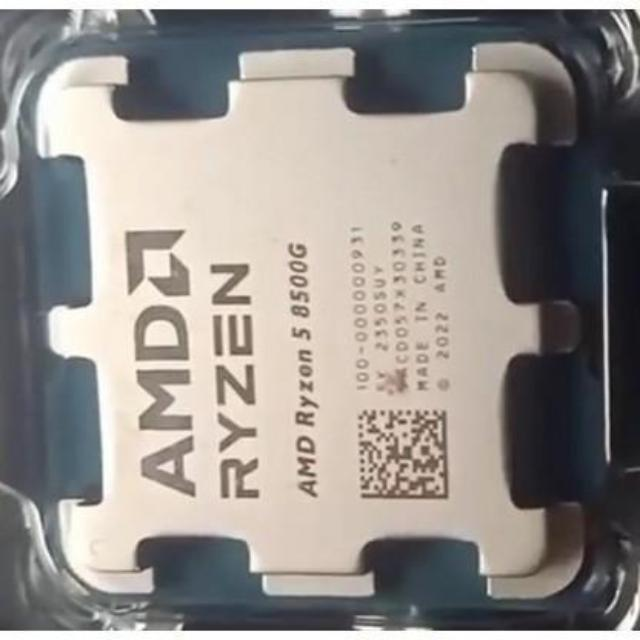CPU: (33, 62, 573, 594)
